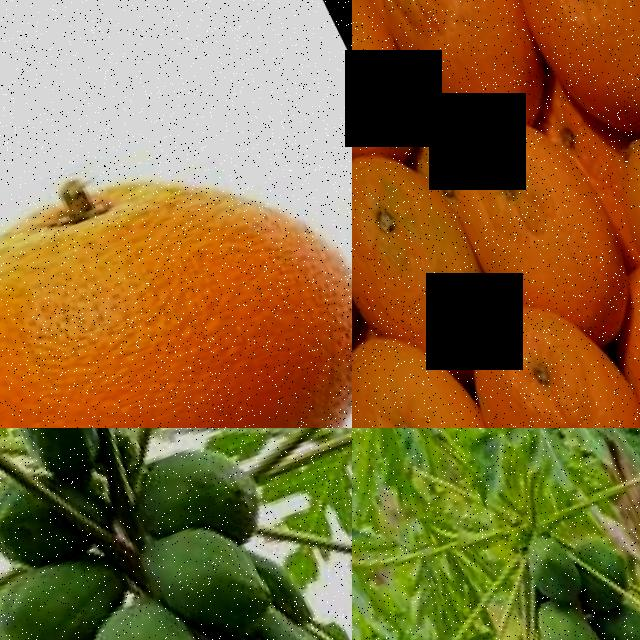orange: (0, 68, 352, 428), (415, 84, 627, 314), (426, 270, 640, 428), (352, 122, 495, 347), (353, 0, 563, 135), (352, 302, 543, 428), (484, 0, 640, 146), (352, 0, 439, 181), (579, 89, 640, 318)
pawpaw: (121, 495, 275, 640), (110, 428, 260, 539), (56, 581, 237, 640), (0, 550, 97, 640), (559, 523, 636, 608), (509, 519, 583, 601), (0, 428, 114, 481), (520, 585, 605, 640), (581, 593, 640, 640)
